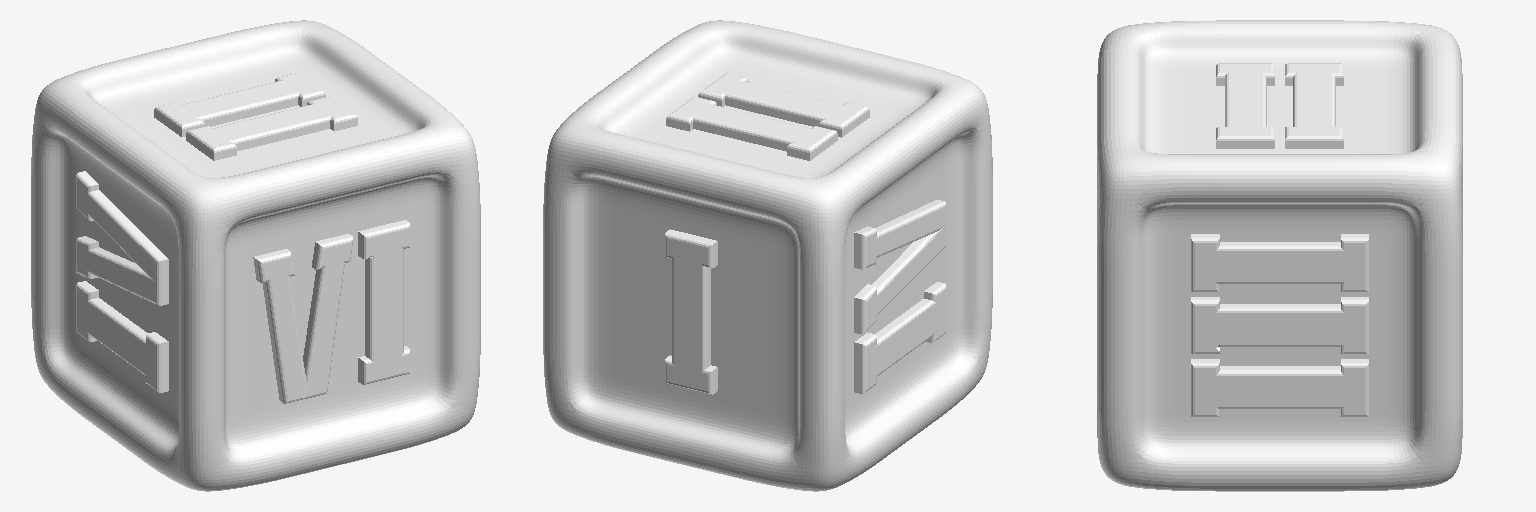
URDF robot description (cube.urdf):
<?xml version="1.0" ?>
<robot name="cube.urdf">
  <link name="baseLink">
    <contact>
    	<friction_anchor/>
    	   <lateral_friction value="0.5"/>
        <rolling_friction value="0.005"/>
        <spinning_friction value="0.005"/>
    </contact>
    <inertial>
      <origin rpy="0 0 0" xyz="0 0 0"/>
       <mass value="1"/>
       <inertia ixx="1" ixy="0" ixz="0" iyy="1.3" iyz="0" izz="0.5"/>
    </inertial>
    <visual>
      <origin rpy="0 0 0" xyz="0 0 0"/>
      <geometry>
				<mesh filename="greek_dice.obj" scale=".03 .03 .03"/>
      </geometry>
       <material name="white">
        <color rgba="1 1 1 1"/>
      </material>
    </visual>
    <collision>
      <origin rpy="0 0 0" xyz="0 0 0"/>
      <geometry>
	 	<box size=".1 .1 .1"/>
      </geometry>
    </collision>
  </link>
</robot>

--- What the picture shows (computed from the rendered views, not written in the file) ---
Views: 3 orthographic renders of the robot side by side, from view 1: azimuth 30°, elevation 25°; view 2: azimuth 150°, elevation 25°; view 3: azimuth 270°, elevation 25°.
Robot: cube.urdf — 1 links, 0 joints (none); root link baseLink; default pose: every joint at zero.
Links seen in each view (by area): view 1: baseLink; view 2: baseLink; view 3: baseLink.
Boxes of the visible links, bbox=[...] form: baseLink: bbox=[31, 20, 480, 491]; baseLink: bbox=[543, 20, 992, 491]; baseLink: bbox=[1097, 20, 1462, 491].
Size in the robot's own frame: 0.1673 by 0.1673 by 0.1673 metres.
1 mesh visuals loaded from 1 distinct referenced files (1 OBJ).
